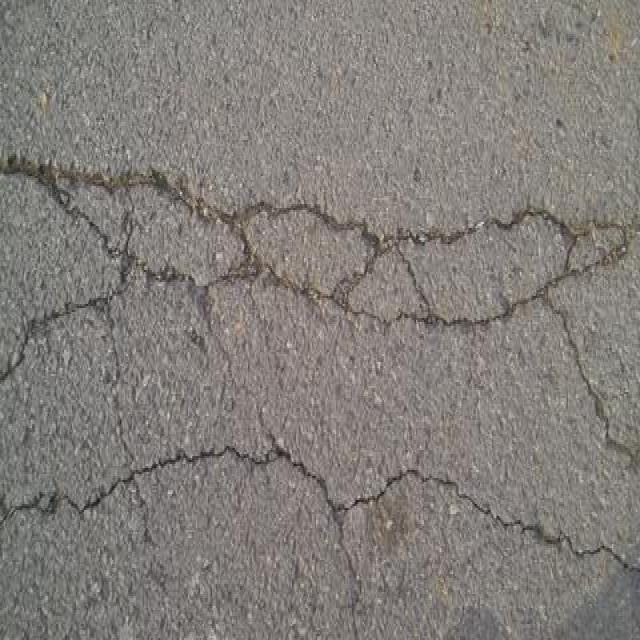GRIETA: (332, 514, 361, 639), (135, 490, 165, 592)
PIEL DE COCODRILO: (0, 143, 639, 578)
